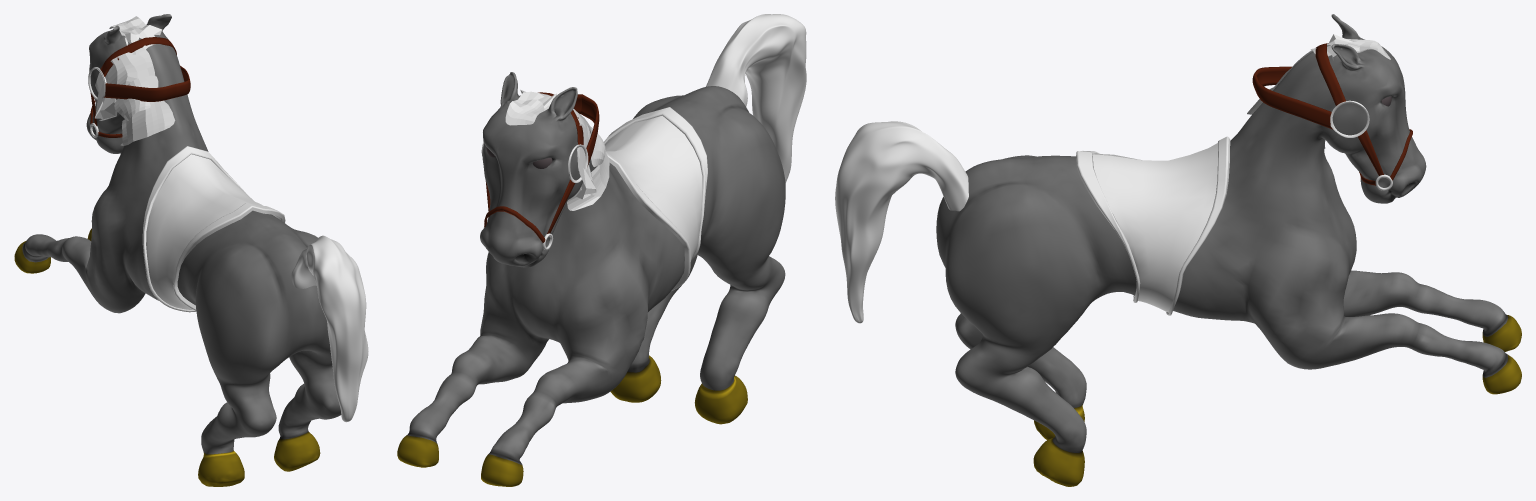
Rendered from HorseFBX.fbx.
The picture shows the model from 3 angles, left to right: view 1: azimuth 30°, elevation 25°; view 2: azimuth 150°, elevation 25°; view 3: azimuth 270°, elevation 25°; orthographic projection. The views are drawn at different scales.
Parts seen in each view (by area): view 1: Plane.010, NurbsPath.007, Circle, Circle.002, Plane.008, Plane.007, Plane.009, Plane.006; view 2: Plane.010, NurbsPath.007, Circle, Circle.002, Plane.009, Plane.007, Plane.008; view 3: Plane.010, NurbsPath.007, Circle, Circle.002.
Part boxes in pixels (x1,y1,x2,y2): Plane.010: (14, 14, 341, 486); NurbsPath.007: (142, 146, 285, 312); Circle: (291, 235, 368, 422); Circle.002: (88, 37, 190, 137); Plane.008: (95, 48, 155, 120); Plane.007: (120, 101, 175, 145); Plane.009: (109, 16, 162, 54); Plane.006: (114, 75, 164, 120); Plane.010: (397, 72, 785, 486); NurbsPath.007: (604, 107, 707, 290); Circle: (706, 14, 806, 183); Circle.002: (481, 92, 599, 250); Plane.009: (505, 89, 557, 125); Plane.007: (567, 152, 609, 210); Plane.008: (573, 109, 596, 199); Plane.010: (936, 14, 1521, 486); NurbsPath.007: (1076, 136, 1230, 315); Circle: (835, 121, 968, 323); Circle.002: (1252, 43, 1412, 190).
Size of the model in its own units: 92.66 by 252 by 362.
